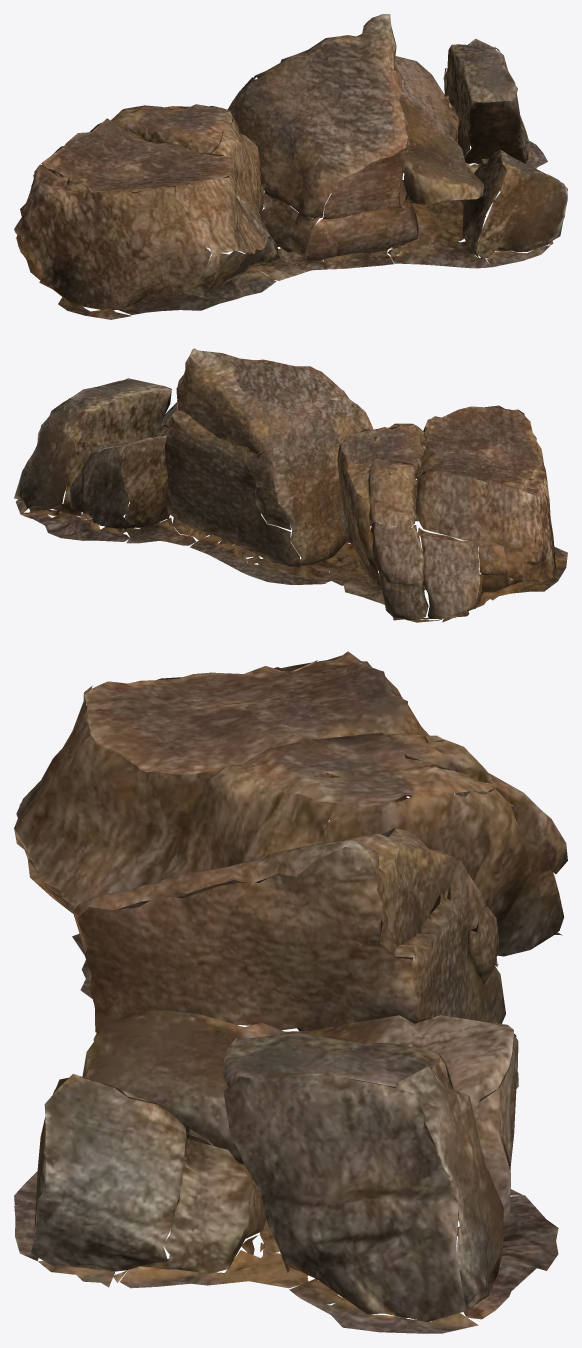
File: namaqualand_boulder_02.glb
3 views of the same model, one above another, from view 1: azimuth 30°, elevation 25°; view 2: azimuth 150°, elevation 25°; view 3: azimuth 270°, elevation 25° (orthographic). The views are drawn at different scales.
Parts seen in each view (by area): view 1: boulder_02; view 2: boulder_02; view 3: boulder_02.
Part boxes in pixels (left/top/right/bottom): boulder_02: left=14, top=14, right=567, bottom=319; boulder_02: left=14, top=348, right=567, bottom=622; boulder_02: left=14, top=651, right=567, bottom=1333.
Size of the model in its own units: 2.52 by 0.8766 by 1.23.
Materials: 1 (1 with a texture image).
